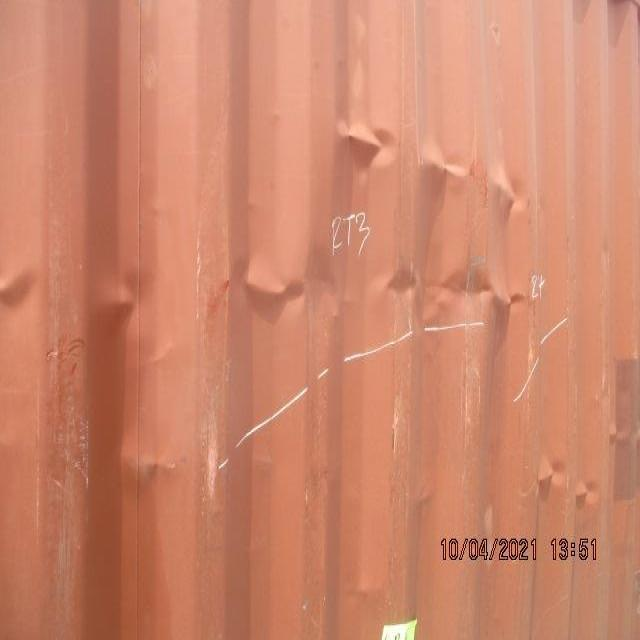dent: (309, 100, 541, 230), (208, 232, 330, 353), (383, 249, 529, 348), (87, 255, 172, 359), (512, 443, 612, 531), (118, 432, 196, 500), (2, 260, 43, 329)
